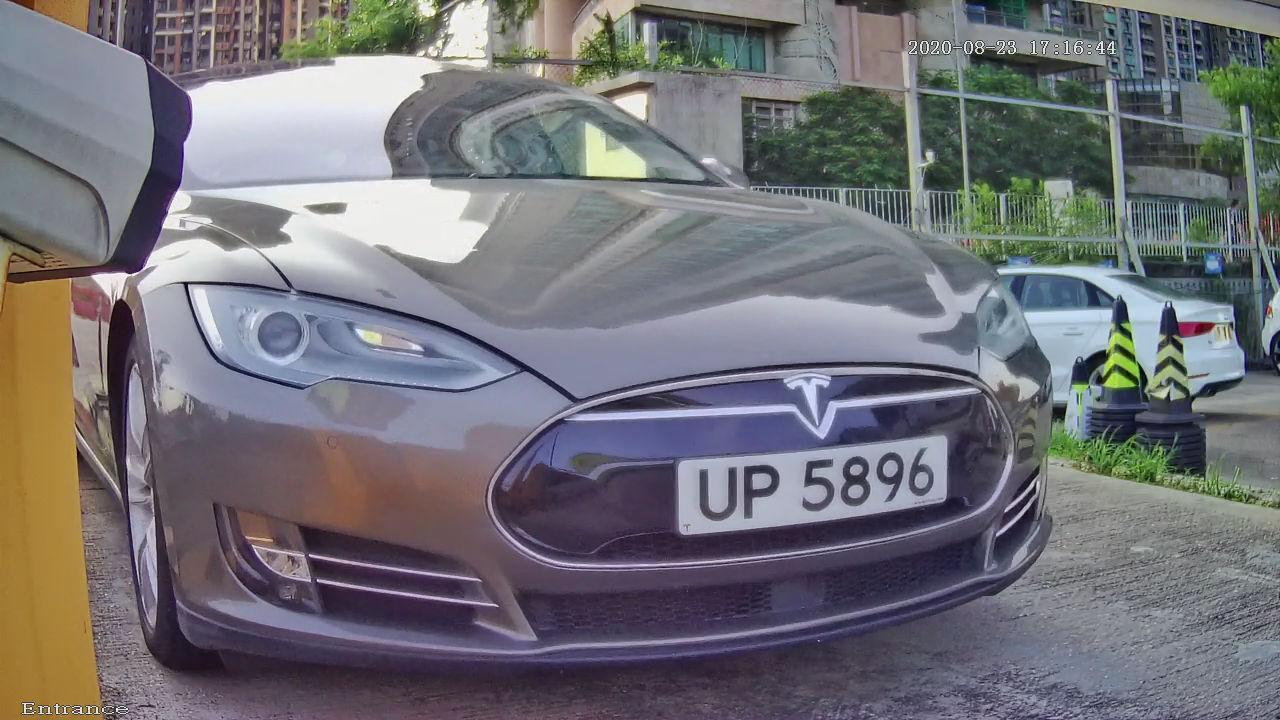Car: (1, 7, 1166, 717)
License Plate: (625, 399, 993, 583)
